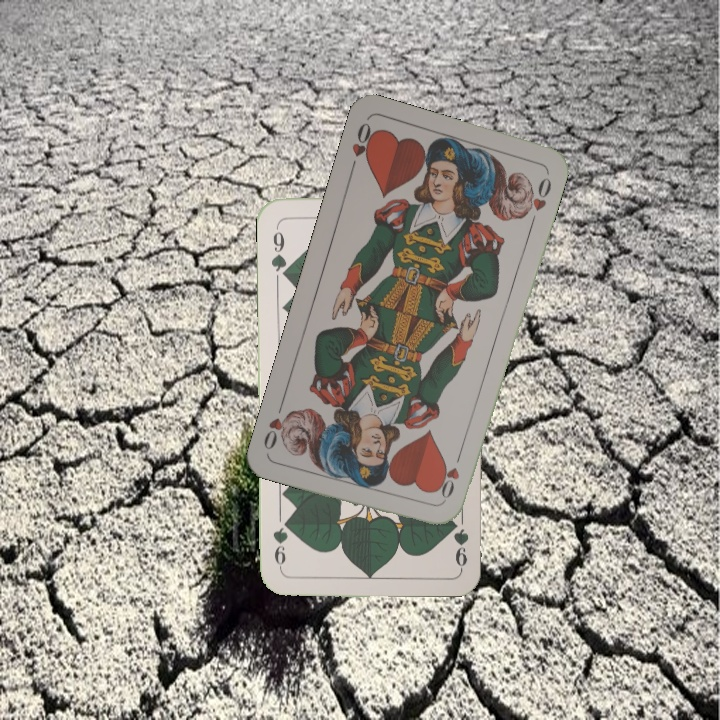G9: (267, 222, 291, 281), (451, 525, 471, 570)
HO: (346, 118, 379, 175), (437, 448, 465, 505)
